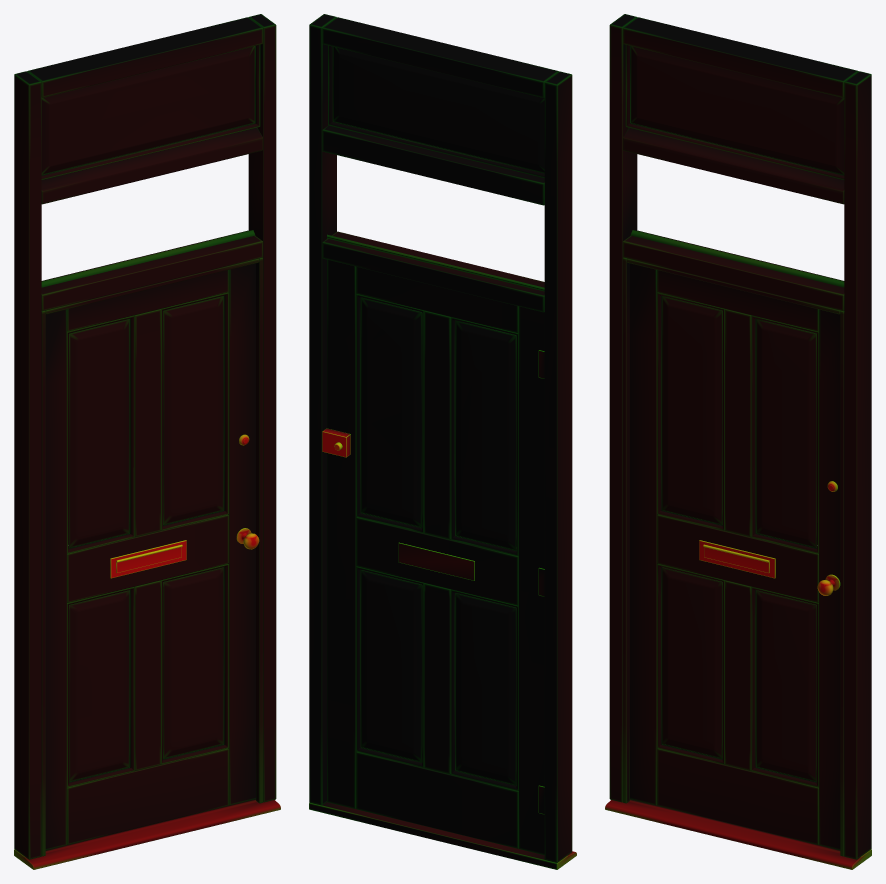
File: side_door.glb
3 renders of one model, left to right at view 1: azimuth 30°, elevation 25°; view 2: azimuth 150°, elevation 25°; view 3: azimuth 330°, elevation 25°, orthographic.
Parts seen in each view (by area): view 1: side_door_leaf, side_door; view 2: side_door_leaf, side_door; view 3: side_door_leaf, side_door.
Part boxes in pixels (x1,y1,x2,y2): side_door_leaf: (45, 263, 259, 850); side_door: (14, 14, 280, 869); side_door_leaf: (322, 259, 544, 855); side_door: (309, 14, 576, 869); side_door_leaf: (630, 263, 840, 850); side_door: (605, 14, 871, 869).
Bounding box in the file's own units: 0.944 × 2.85 × 0.157.
